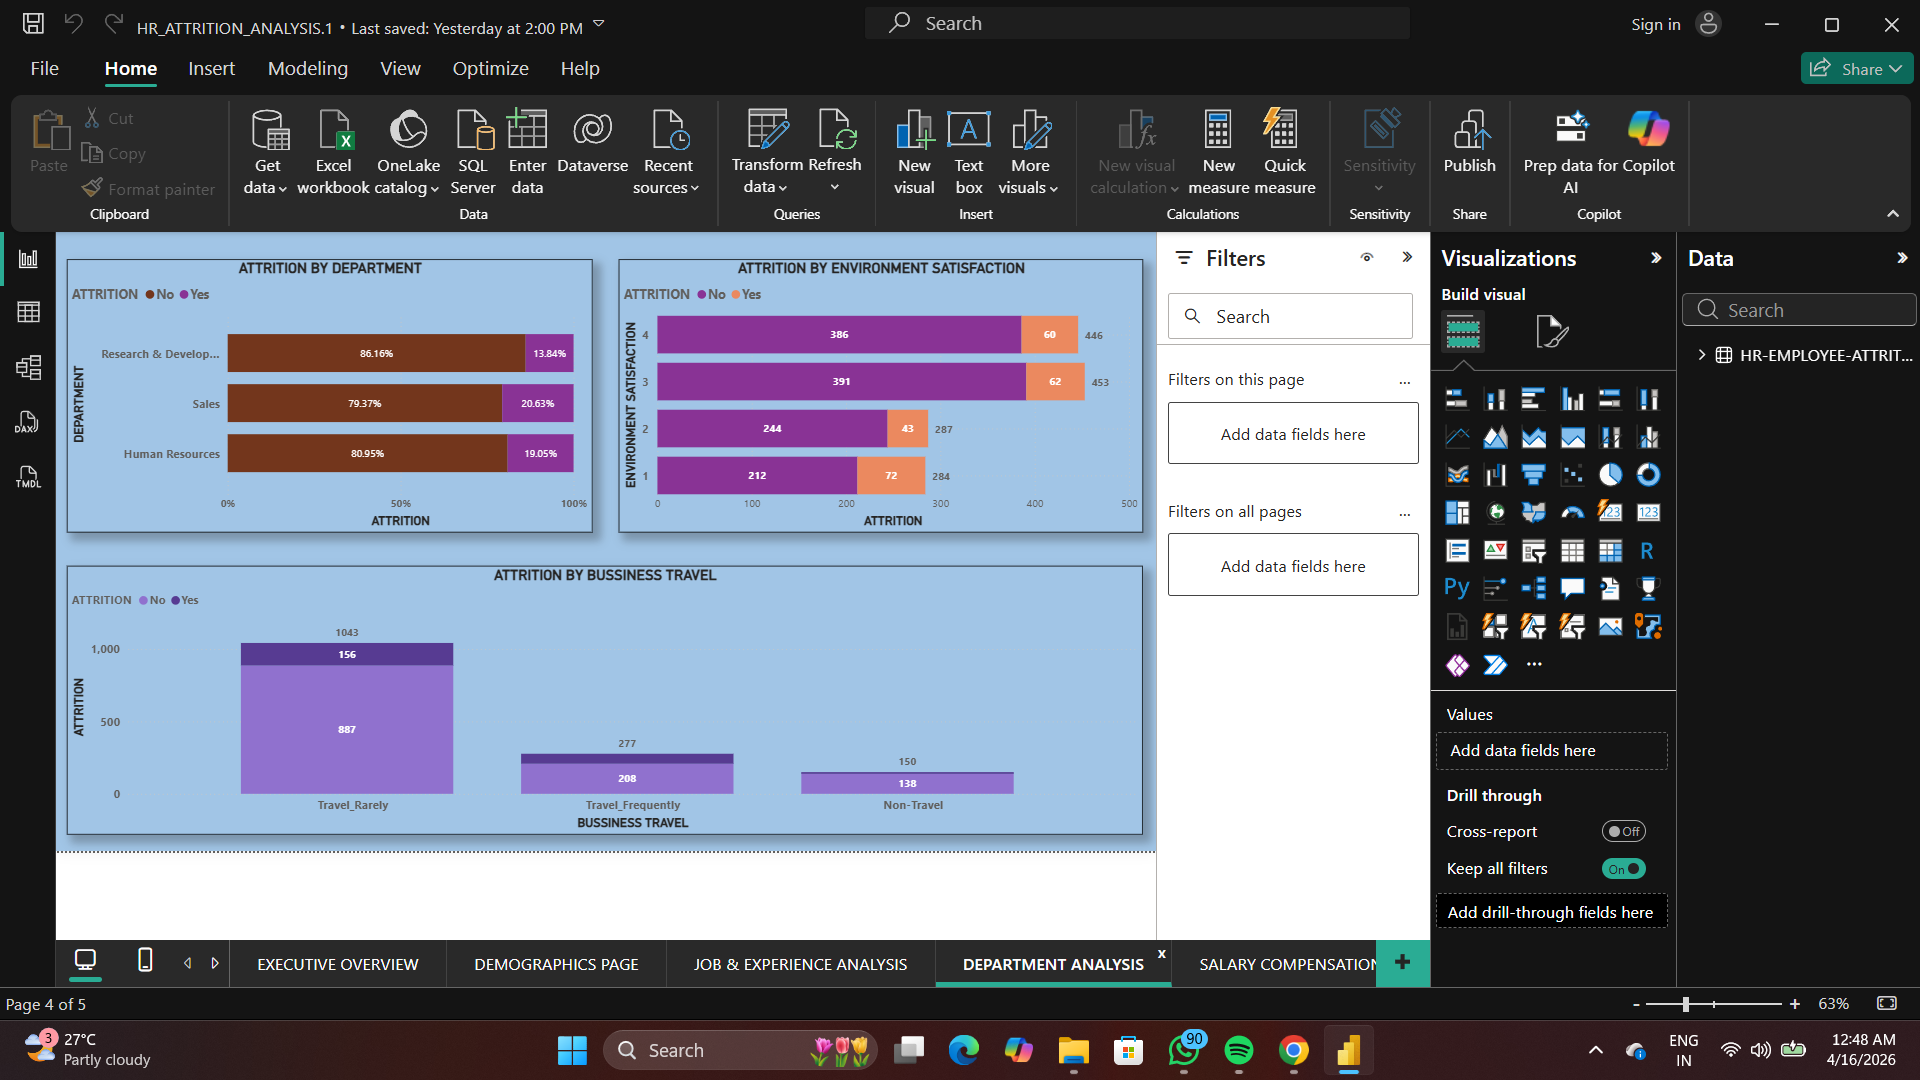

The dashboard page shown, as its layout file describes it:
{"tool":"powerbi","page":{"name":"DEPARTMENT ANALYSIS","canvas":[1280,720],"ordinal":3},"visuals":[{"type":"hundredPercentStackedBarChart","title":"ATTRITION  BY DEPARTMENT  ","fields":{"Y":["CountNonNull(HR-EMPLOYEE-ATTRITION.Attrition)"],"Category":["HR-EMPLOYEE-ATTRITION.Department"],"Series":["HR-EMPLOYEE-ATTRITION.Attrition"]},"box":[13.4,31.9,611.4,317.5],"z":0},{"type":"barChart","title":"ATTRITION BY ENVIRONMENT SATISFACTION ","fields":{"Category":["HR-EMPLOYEE-ATTRITION.EnvironmentSatisfaction"],"Y":["CountNonNull(HR-EMPLOYEE-ATTRITION.Attrition)"],"Series":["HR-EMPLOYEE-ATTRITION.Attrition"]},"box":[655.1,31.9,609.8,317.5],"z":1000},{"type":"columnChart","title":"ATTRITION BY BUSSINESS TRAVEL ","fields":{"Category":["HR-EMPLOYEE-ATTRITION.BusinessTravel"],"Series":["HR-EMPLOYEE-ATTRITION.Attrition"],"Y":["CountNonNull(HR-EMPLOYEE-ATTRITION.Attrition)"]},"box":[13.4,388,1251.4,312.4],"z":2000}]}

Visuals, with their boxes on the page's 1280x720 design canvas (x1, y1, x2, y2). These are canvas units, not pixel positions in the 1920x1080 screenshot, which may show the page scaled, cropped or inside an application window:
"ATTRITION  BY DEPARTMENT  " hundredPercentStackedBarChart: crop(13, 32, 625, 349)
"ATTRITION BY ENVIRONMENT SATISFACTION " barChart: crop(655, 32, 1265, 349)
"ATTRITION BY BUSSINESS TRAVEL " columnChart: crop(13, 388, 1265, 700)
